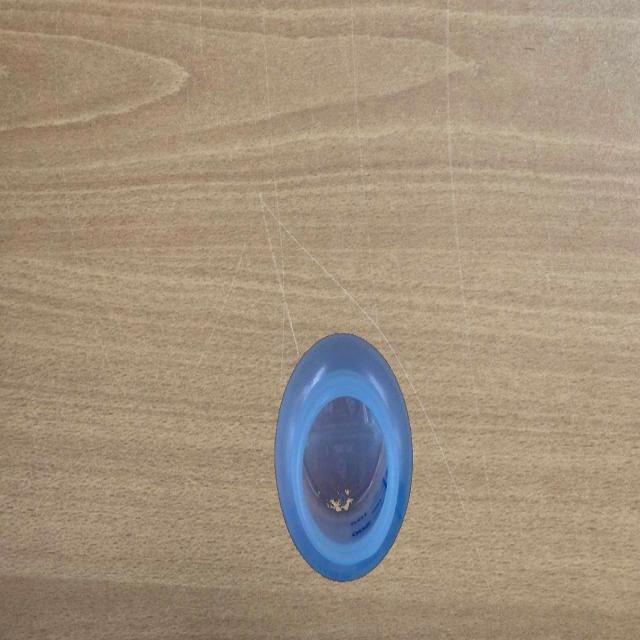bottle: (269, 327, 415, 584)
